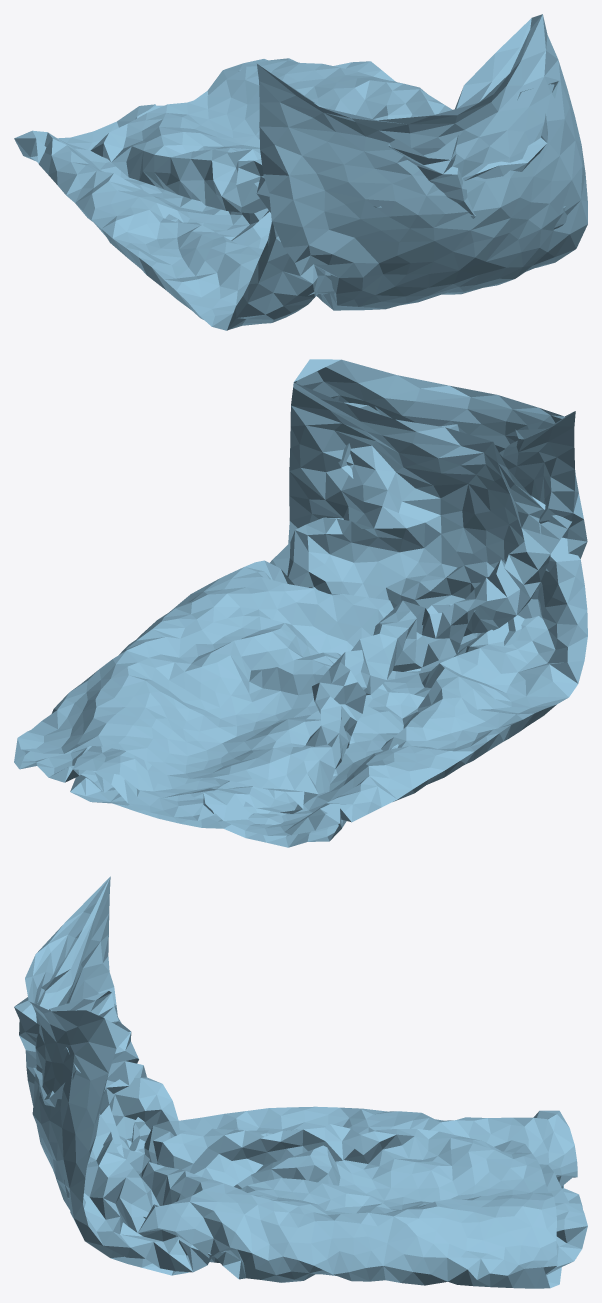
File: frame_08.glb
3 renders of one model, top to bottom at view 1: azimuth 30°, elevation 25°; view 2: azimuth 150°, elevation 25°; view 3: azimuth 270°, elevation 25°, orthographic. The views are drawn at different scales.
Parts seen in each view (by area): view 1: frame_08.obj; view 2: frame_08.obj; view 3: frame_08.obj.
Part boxes in pixels (<box>): frame_08.obj: <box>14,14,587,330</box>; frame_08.obj: <box>14,359,587,847</box>; frame_08.obj: <box>14,876,587,1288</box>.
Size of the model in its own units: 0.9691 by 0.7272 by 1.4.
